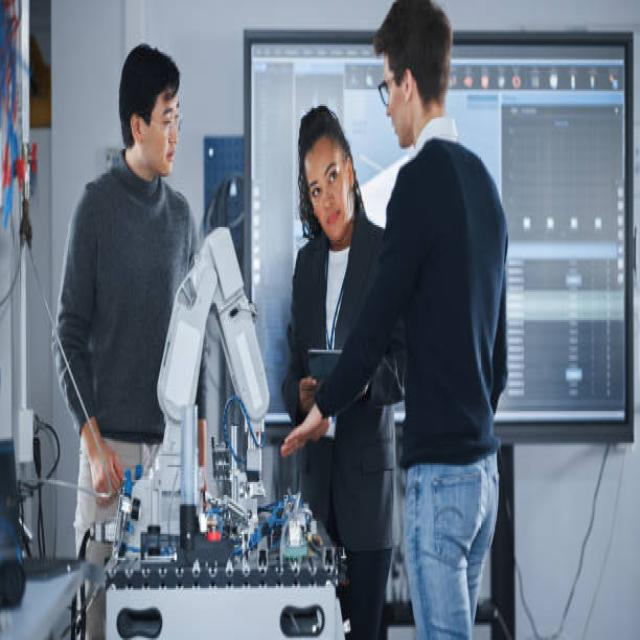Robotic-arm: (126, 216, 272, 539)
